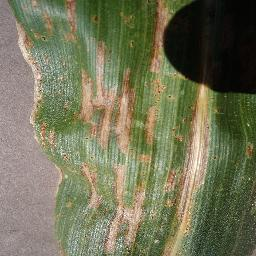Gray_Leaf_Spot: (134, 80, 217, 256), (75, 70, 134, 256), (32, 128, 81, 256), (9, 26, 46, 125), (137, 0, 183, 69), (240, 135, 256, 256), (24, 1, 57, 46), (56, 0, 82, 40), (88, 40, 108, 74), (125, 37, 152, 54), (122, 5, 139, 30), (59, 97, 82, 113), (55, 70, 69, 87), (91, 8, 102, 28)
